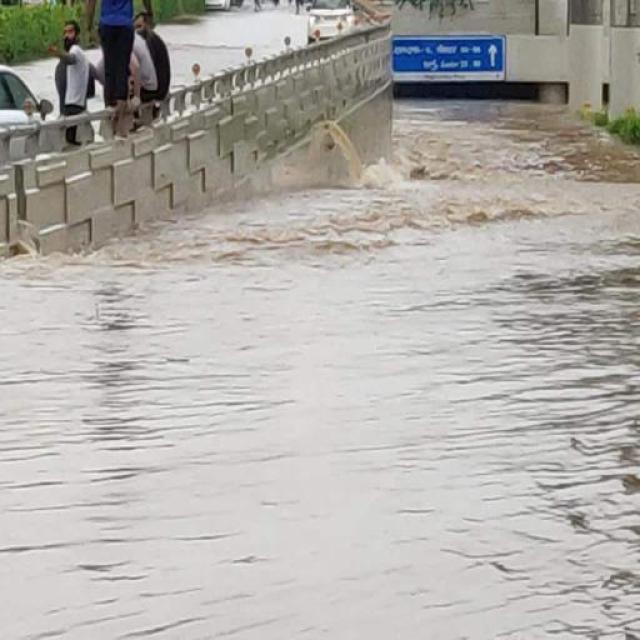puddle: (13, 266, 640, 640), (218, 196, 640, 370), (403, 128, 525, 422)
